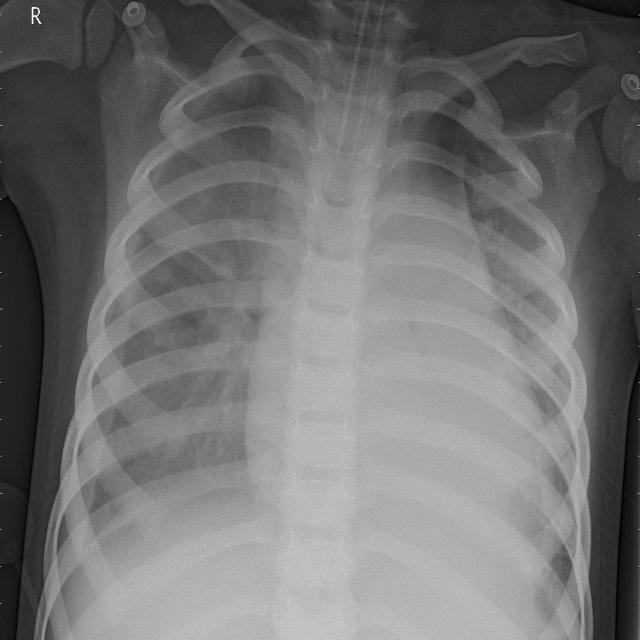low-pneumonia: (189, 207, 274, 438)
